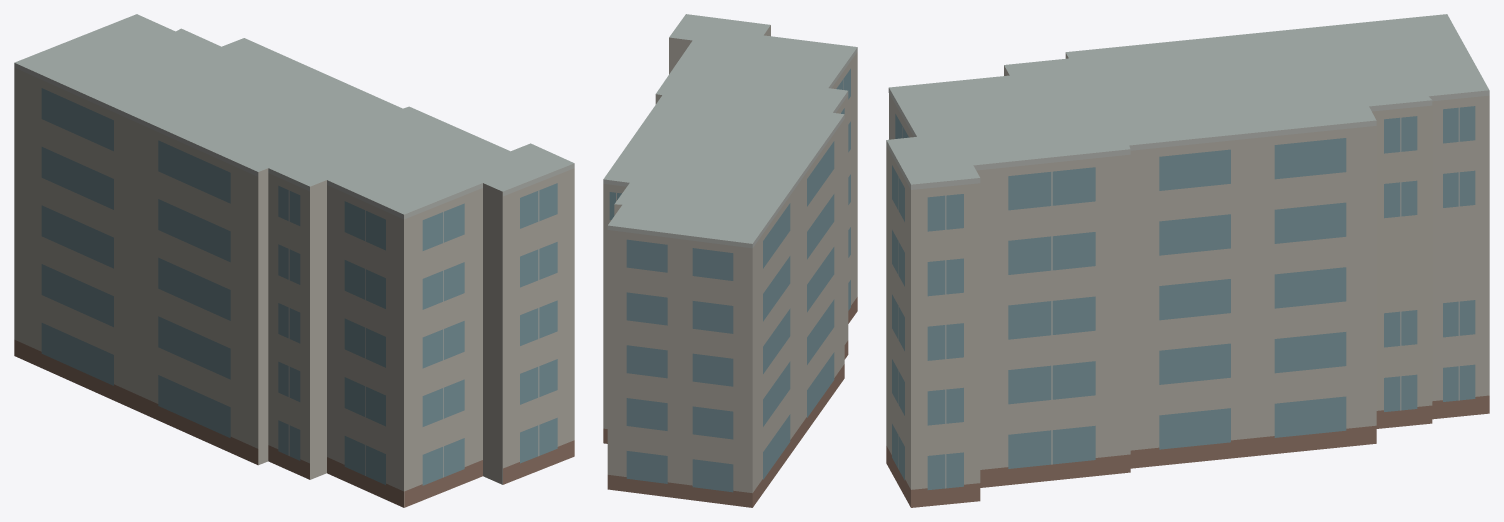
File: survey-upis-32755474.glb
The picture shows the model from 3 angles, left to right: view 1: azimuth 30°, elevation 25°; view 2: azimuth 150°, elevation 25°; view 3: azimuth 270°, elevation 25°; orthographic projection. The views are drawn at different scales.
Visible parts, largest first — view 1: survey-upis-32755474.tmp; view 2: survey-upis-32755474.tmp; view 3: survey-upis-32755474.tmp.
Boxes of the visible parts, x1=… form: survey-upis-32755474.tmp: x1=14, y1=14, x2=574, y2=507; survey-upis-32755474.tmp: x1=603, y1=14, x2=857, y2=507; survey-upis-32755474.tmp: x1=886, y1=14, x2=1489, y2=507.
Size of the model in its own units: 16.65 by 14.7 by 24.87.
